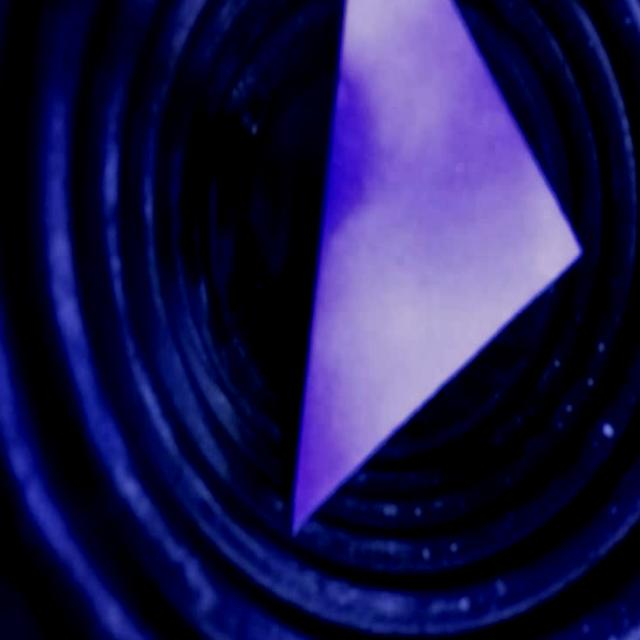obstacles: (288, 0, 573, 533)
